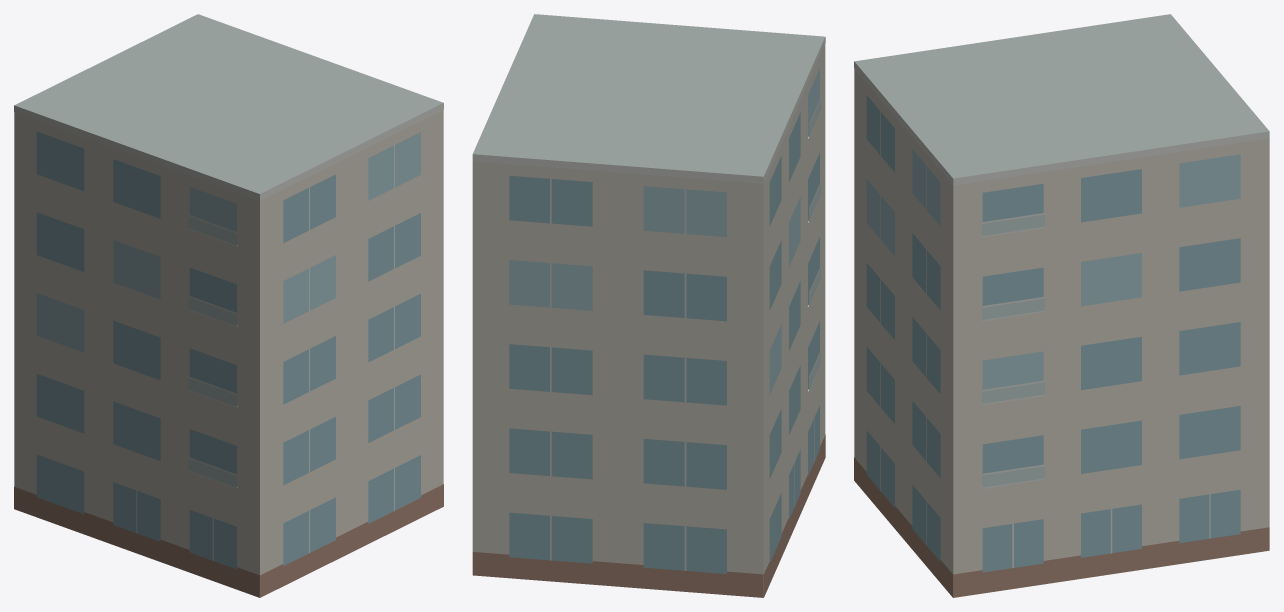
File: survey-upis-32835918.glb
3 views of the same model, side by side, from view 1: azimuth 30°, elevation 25°; view 2: azimuth 150°, elevation 25°; view 3: azimuth 270°, elevation 25° (orthographic). The views are drawn at different scales.
Parts seen in each view (by area): view 1: survey-upis-32835918.tmp; view 2: survey-upis-32835918.tmp; view 3: survey-upis-32835918.tmp.
Boxes of the visible parts, left/top/right/bottom form: survey-upis-32835918.tmp: left=14, top=14, right=443, bottom=597; survey-upis-32835918.tmp: left=472, top=14, right=825, bottom=597; survey-upis-32835918.tmp: left=854, top=14, right=1269, bottom=597.
Bounding box in the file's own units: 12.22 × 14.5 × 13.03.
